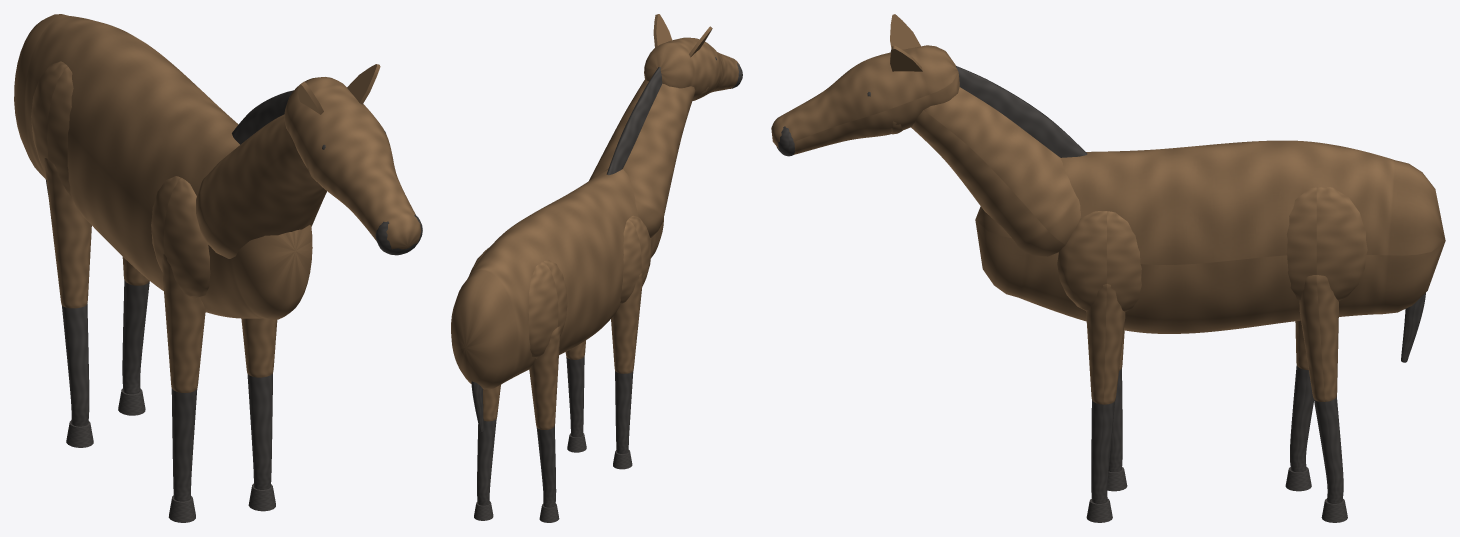
The model's file is horse.glb.
3 views of the same model, side by side, from view 1: azimuth 30°, elevation 25°; view 2: azimuth 150°, elevation 25°; view 3: azimuth 270°, elevation 25° (orthographic). The views are drawn at different scales.
Parts seen in each view (by area): view 1: horse-standing; view 2: horse-standing; view 3: horse-standing.
Part boxes in pixels (<box>): horse-standing: <box>14,14,422,522</box>; horse-standing: <box>451,14,742,522</box>; horse-standing: <box>771,14,1445,522</box>.
Size of the model in its own units: 0.5076 by 2.16 by 2.8.
2 materials, 2 textured.
